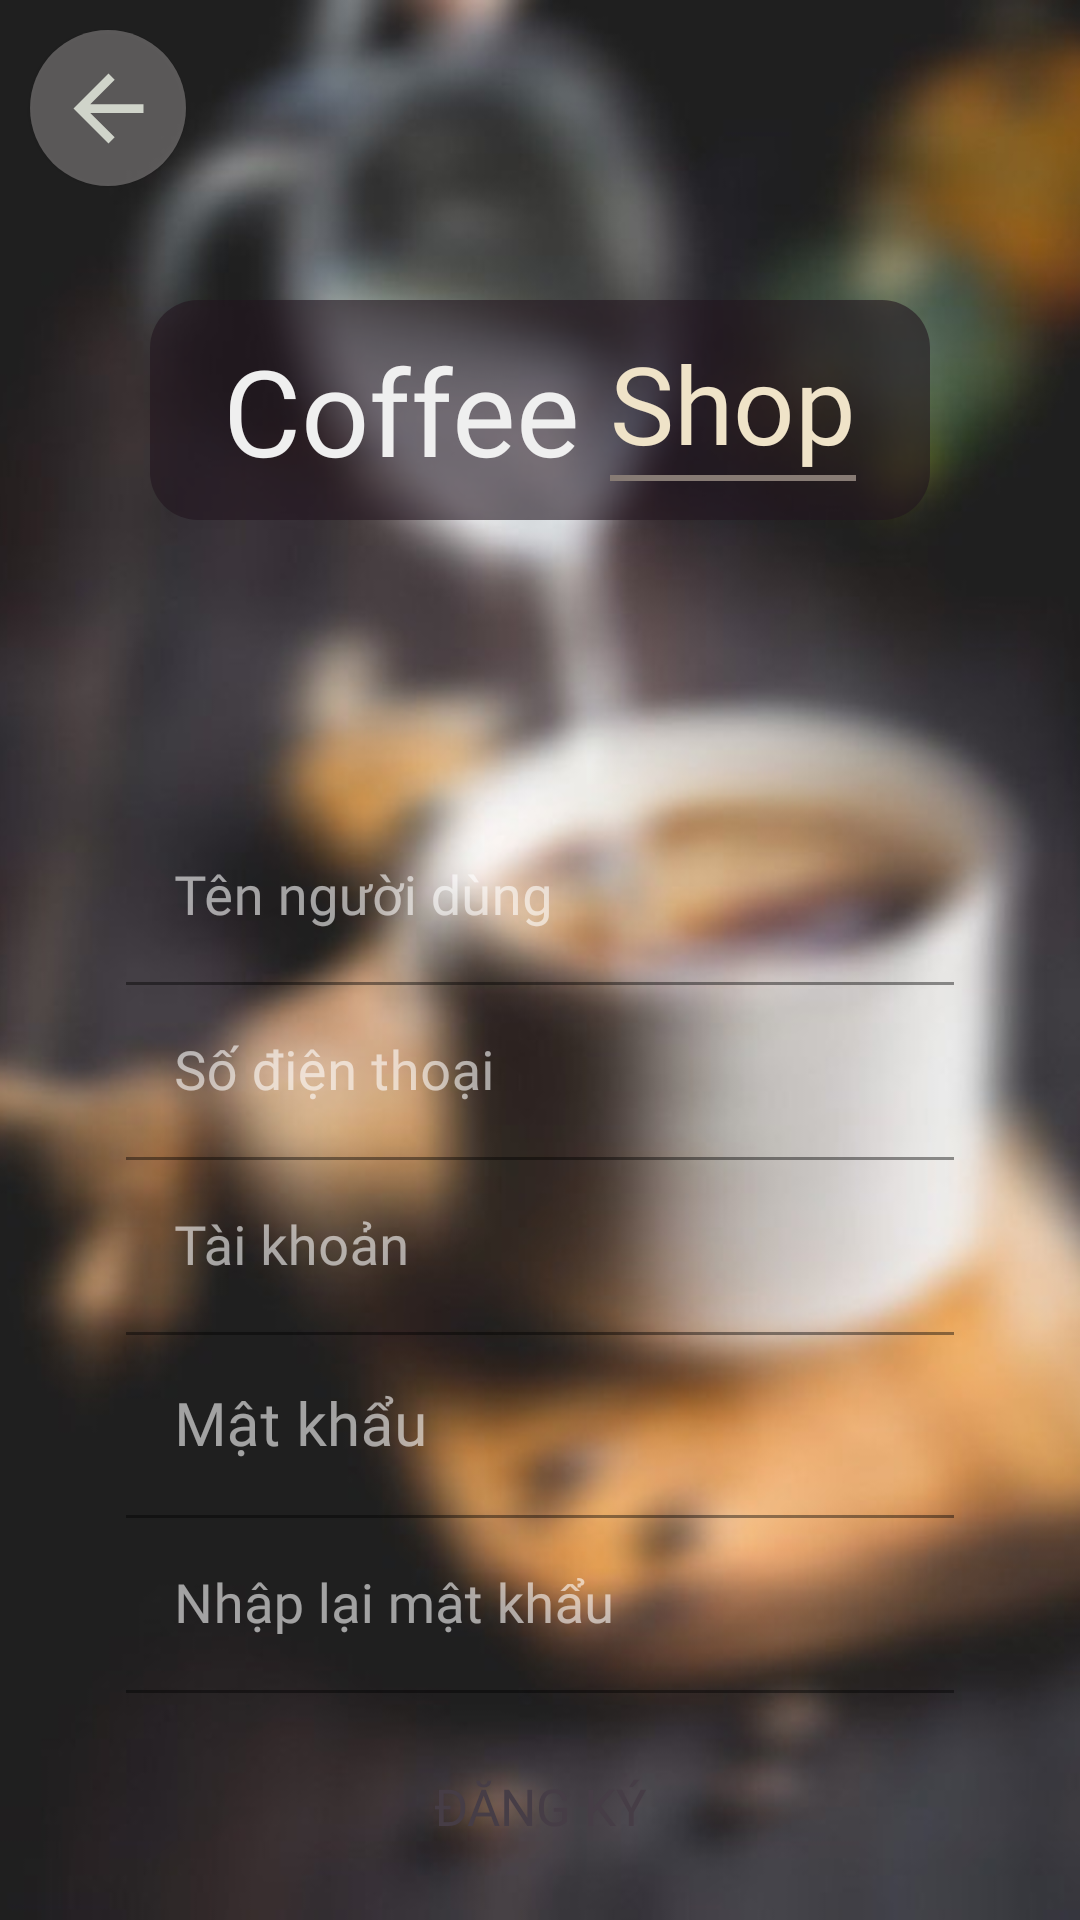

Icons on this 1080x1920 Android screen, each with its box as BBox(x1, y1, x2, y2):
back: BBox(30, 30, 186, 186)
